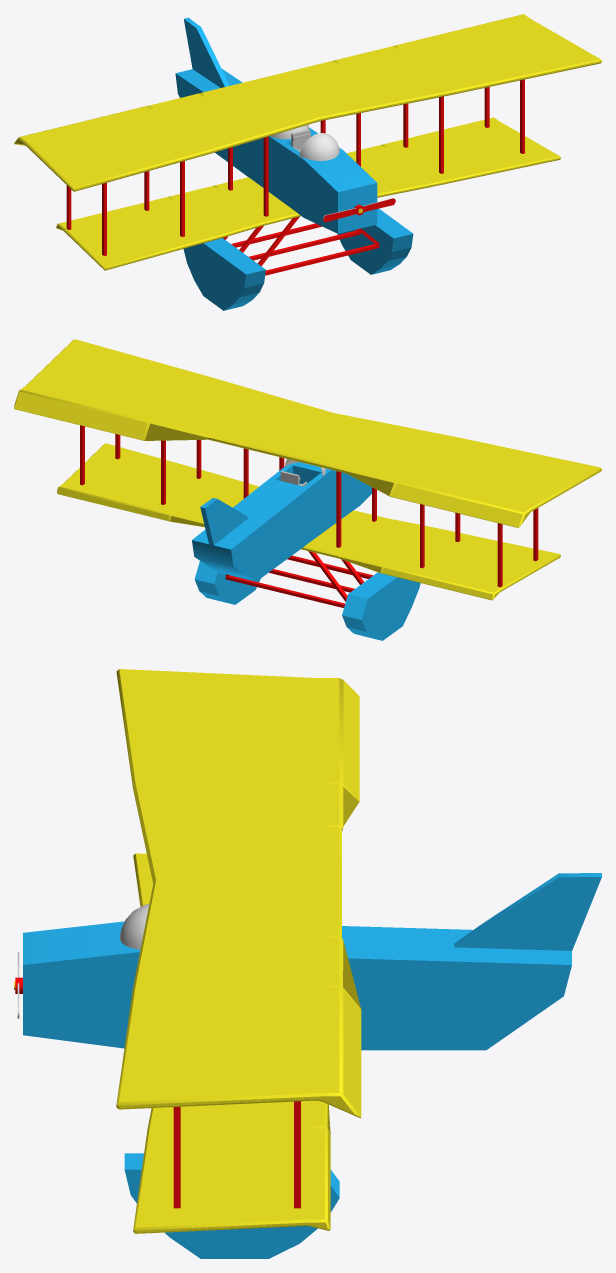
The model's file is 甲型一号.fbx.
The picture shows the model from 3 angles, top to bottom: view 1: azimuth 30°, elevation 25°; view 2: azimuth 150°, elevation 25°; view 3: azimuth 270°, elevation 25°; orthographic projection. The views are drawn at different scales.
Visible parts, largest first — view 1: 立方体_3_3, 立方体_2_3, 立方体_17, pCylinder1_1, pCylinder1, 立方体_3_2, 球体, 立方体_16, 立方体_21_2, 立方体_7, 立方体_22; view 2: 立方体_3_3, 立方体_2_3, 立方体_17, pCylinder1_1, pCylinder1, 立方体_3_2, 立方体_22, 立方体_12, 立方体_21_2; view 3: 立方体_3_3, 立方体_17, 立方体_2_3, 立方体_3_2, pCylinder1, 球体, 立方体_6.
Part boxes in pixels (<box>): 立方体_3_3: <box>14,14,601,191</box>; 立方体_2_3: <box>56,117,560,270</box>; 立方体_17: <box>175,69,377,233</box>; pCylinder1_1: <box>183,238,265,310</box>; pCylinder1: <box>337,208,413,274</box>; 立方体_3_2: <box>184,17,229,87</box>; 球体: <box>299,133,339,160</box>; 立方体_16: <box>265,244,378,275</box>; 立方体_21_2: <box>248,230,360,260</box>; 立方体_7: <box>263,136,268,216</box>; 立方体_22: <box>231,223,321,247</box>; 立方体_3_3: <box>14,339,601,527</box>; 立方体_2_3: <box>57,443,560,600</box>; 立方体_17: <box>192,462,371,581</box>; pCylinder1_1: <box>342,572,420,640</box>; pCylinder1: <box>194,561,260,604</box>; 立方体_3_2: <box>200,498,248,545</box>; 立方体_22: <box>225,575,344,607</box>; 立方体_12: <box>336,471,341,547</box>; 立方体_21_2: <box>269,569,354,592</box>; 立方体_3_3: <box>116,669,361,1118</box>; 立方体_17: <box>23,921,571,1050</box>; 立方体_2_3: <box>133,853,330,1233</box>; 立方体_3_2: <box>454,873,601,950</box>; pCylinder1: <box>124,1153,339,1258</box>; 球体: <box>119,904,149,949</box>; 立方体_6: <box>173,1107,180,1208</box>.
Size of the model in its own units: 1385 by 465 by 790.
